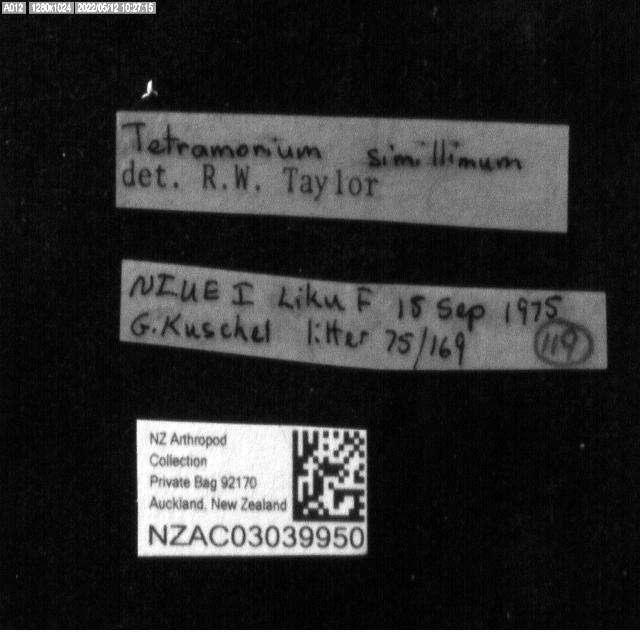hand_label: (120, 259, 608, 370)
mixed_label: (116, 111, 569, 233)
typed_label: (136, 420, 368, 556)
